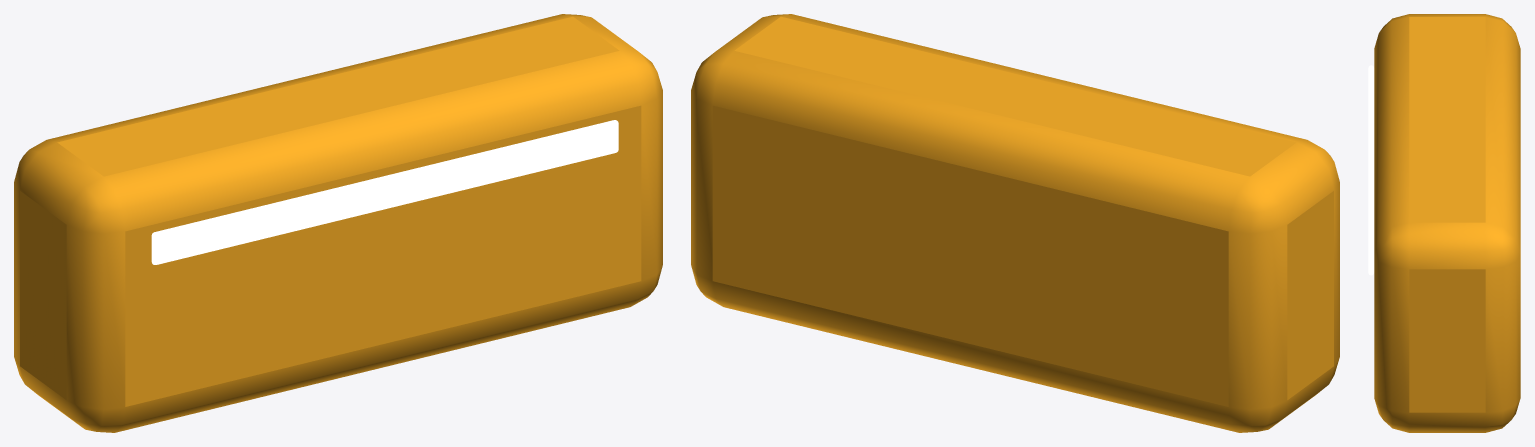
The model's file is cihla_zluta.glb.
The picture shows the model from 3 angles, left to right: view 1: azimuth 30°, elevation 25°; view 2: azimuth 150°, elevation 25°; view 3: azimuth 270°, elevation 25°; orthographic projection. The views are drawn at different scales.
Visible parts, largest first — view 1: cihla_zluta_m, cihla_zluta_lesk; view 2: cihla_zluta_m; view 3: cihla_zluta_m, cihla_zluta_lesk.
Boxes of the visible parts, x1=… form: cihla_zluta_m: x1=14, y1=14, x2=662, y2=432; cihla_zluta_lesk: x1=151, y1=120, x2=618, y2=264; cihla_zluta_m: x1=691, y1=14, x2=1339, y2=432; cihla_zluta_m: x1=1374, y1=14, x2=1520, y2=432; cihla_zluta_lesk: x1=1368, y1=65, x2=1374, y2=275.
Bounding box in the file's own units: 1.9 × 0.78 × 0.52.
